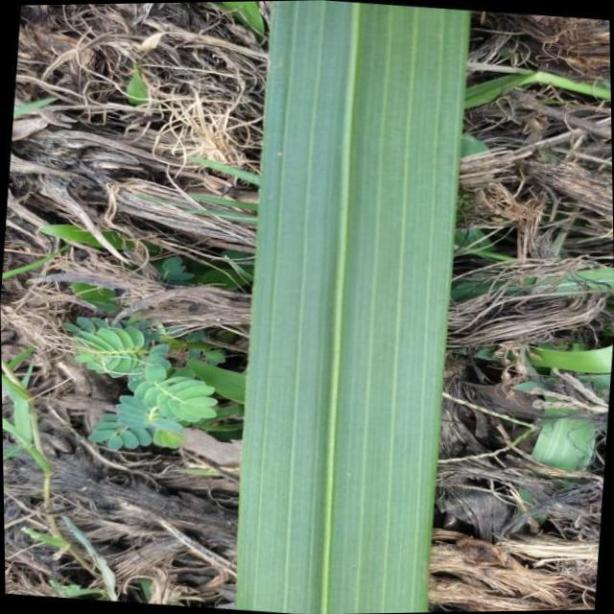Healthy: (238, 0, 467, 614)
